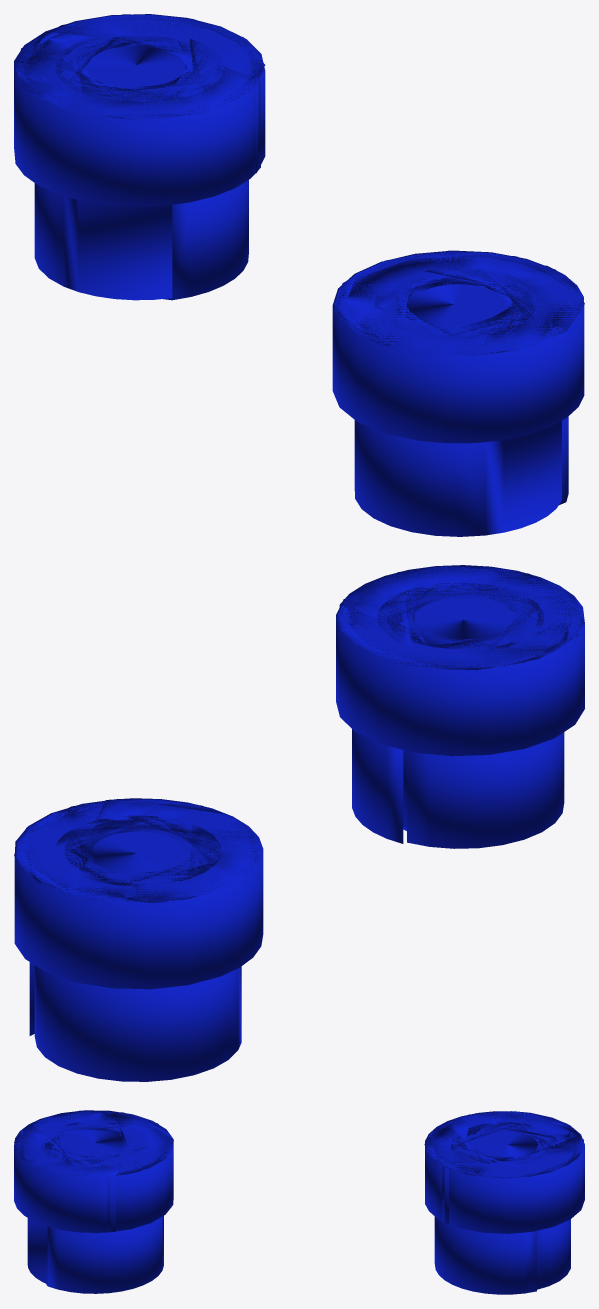
File: tuyeau_element_000082.obj
3 views of the same model, one above another, from view 1: azimuth 30°, elevation 25°; view 2: azimuth 150°, elevation 25°; view 3: azimuth 270°, elevation 25° (orthographic). The views are drawn at different scales.
Visible parts, largest first — view 1: tuyeau1_Cube.014, tuyeau2_Cube.017; view 2: tuyeau2_Cube.017, tuyeau1_Cube.014; view 3: tuyeau2_Cube.017, tuyeau1_Cube.014.
Part boxes in pixels (x1=…): tuyeau1_Cube.014: x1=14, y1=14, x2=265, y2=300; tuyeau2_Cube.017: x1=332, y1=250, x2=584, y2=536; tuyeau2_Cube.017: x1=336, y1=565, x2=584, y2=848; tuyeau1_Cube.014: x1=14, y1=798, x2=263, y2=1081; tuyeau2_Cube.017: x1=14, y1=1110, x2=173, y2=1293; tuyeau1_Cube.014: x1=424, y1=1111, x2=584, y2=1294.
Size of the model in its own units: 3562 by 2917 by 12548.
